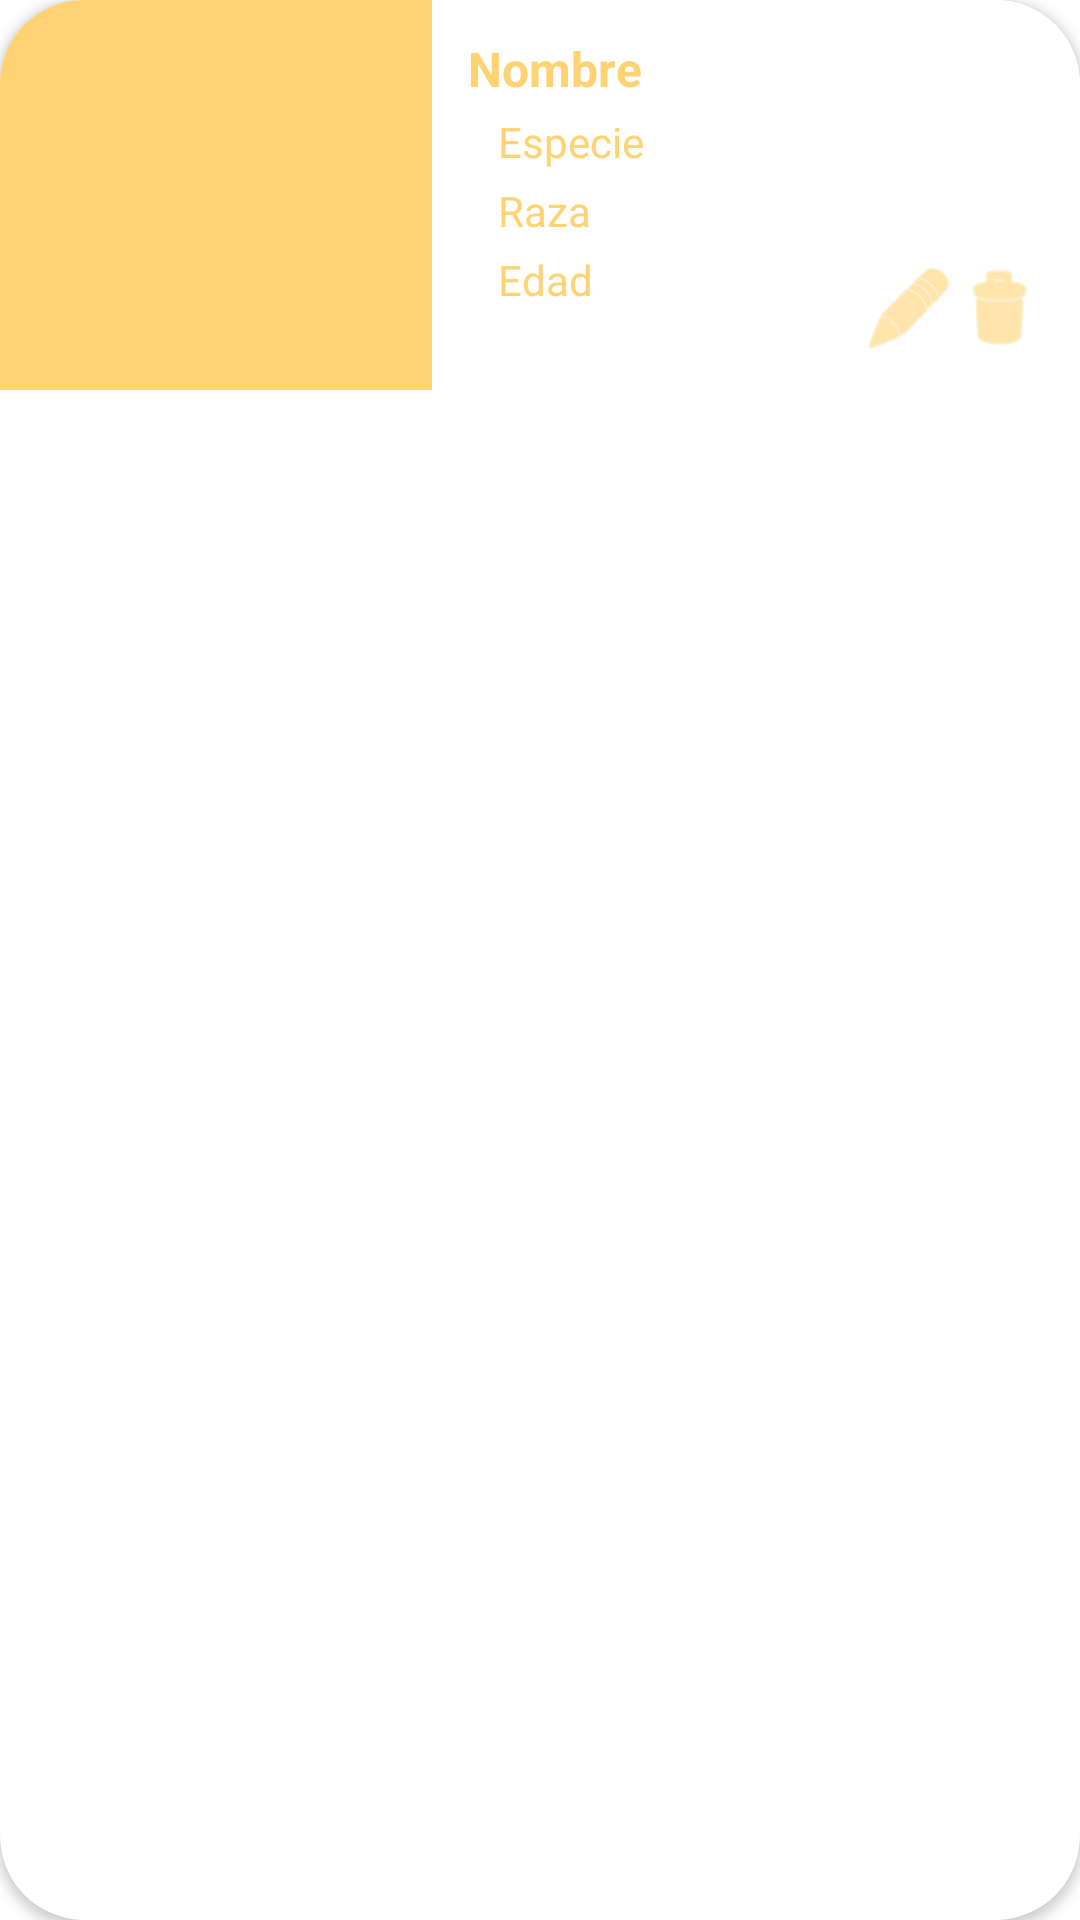

Point at icon controls on the screen. Image size 1080px×1920px, points as (x,y).
Editar: (908,308)
Eliminar: (999,307)
